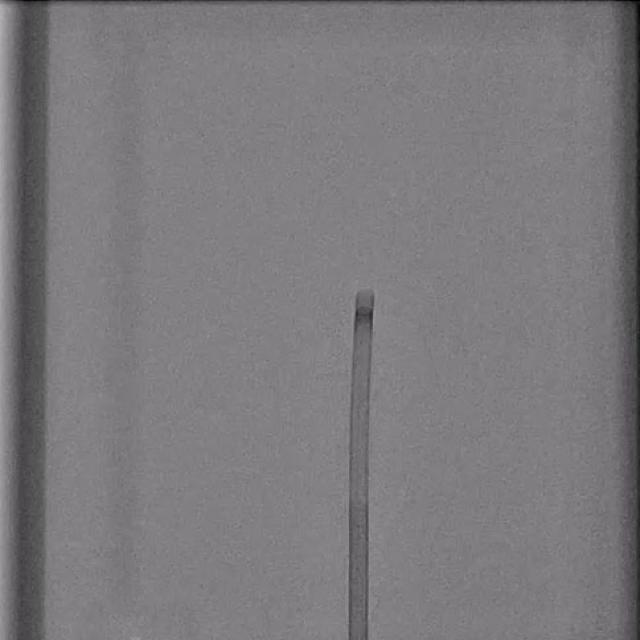bend: (348, 486, 370, 500)
entry: (348, 633, 368, 640)
marker: (354, 304, 374, 326)
tip: (356, 290, 375, 298)
